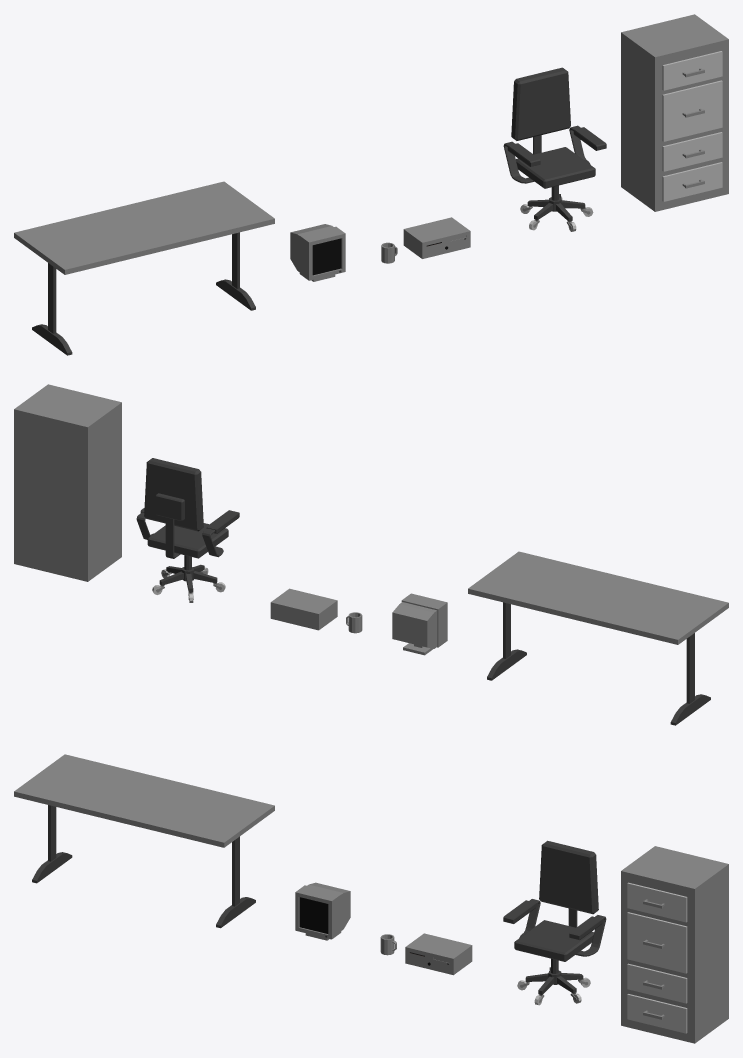
Rendered from objetos_marcelo.fbx.
3 views of the same model, one above another, from view 1: azimuth 30°, elevation 25°; view 2: azimuth 150°, elevation 25°; view 3: azimuth 330°, elevation 25° (orthographic).
Parts seen in each view (by area): view 1: Armario, Mesa, Cadeira, MonitorAntigo, PcAntigo; view 2: Armario, Mesa, Cadeira, MonitorAntigo, PcAntigo; view 3: Armario, Mesa, Cadeira, MonitorAntigo, PcAntigo.
Boxes of the visible parts, box(x1,y1,x2,y2) form: Armario: box(621, 14, 728, 211); Mesa: box(14, 181, 274, 355); Cadeira: box(503, 67, 606, 231); MonitorAntigo: box(290, 224, 345, 281); PcAntigo: box(403, 217, 470, 258); Armario: box(14, 384, 121, 581); Mesa: box(468, 551, 728, 725); Cadeira: box(136, 458, 239, 602); MonitorAntigo: box(392, 593, 447, 655); PcAntigo: box(270, 588, 337, 630); Armario: box(621, 846, 728, 1043); Mesa: box(14, 754, 274, 928); Cadeira: box(503, 840, 606, 1005); MonitorAntigo: box(295, 882, 350, 940); PcAntigo: box(405, 933, 472, 975).
Size of the model in its own units: 573 by 126 by 75.1.
4 materials, 4 textured.
